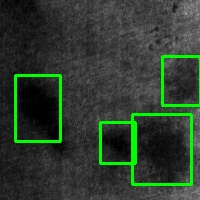patches: (132, 114, 191, 184), (15, 75, 60, 141), (162, 56, 200, 105), (100, 122, 135, 163)
